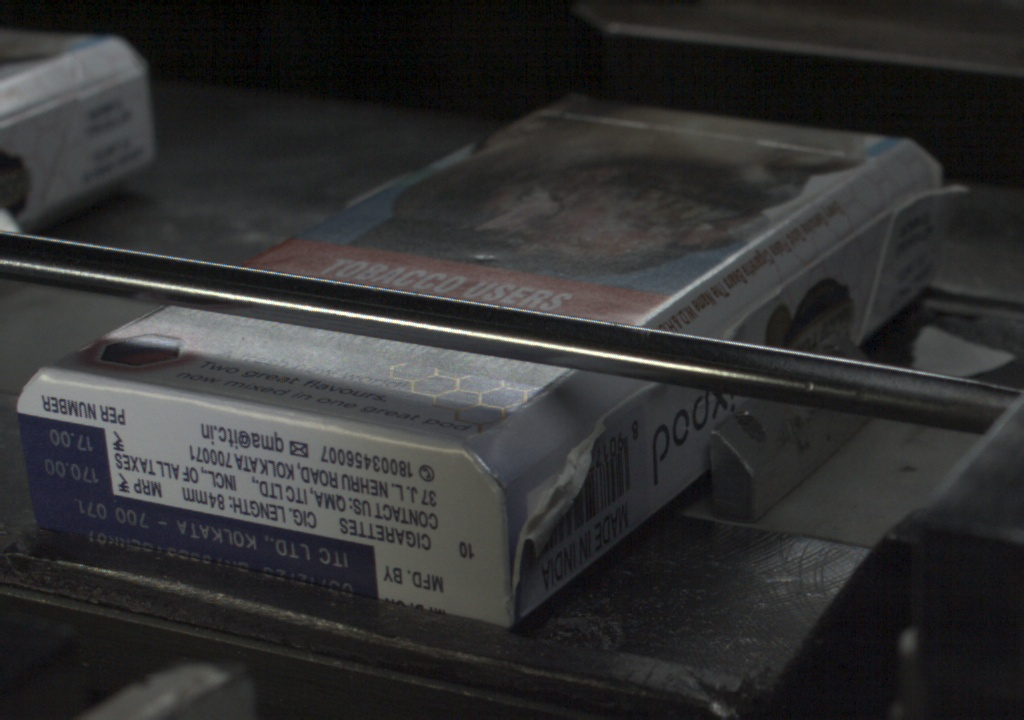g_bottom: (16, 373, 509, 627)
g_label: (28, 492, 379, 597)
g_lmiter: (797, 216, 875, 281)
ng_lmiter: (506, 431, 600, 555), (719, 290, 785, 337)
ng_miter: (898, 172, 972, 214)
price: (24, 423, 109, 491)
